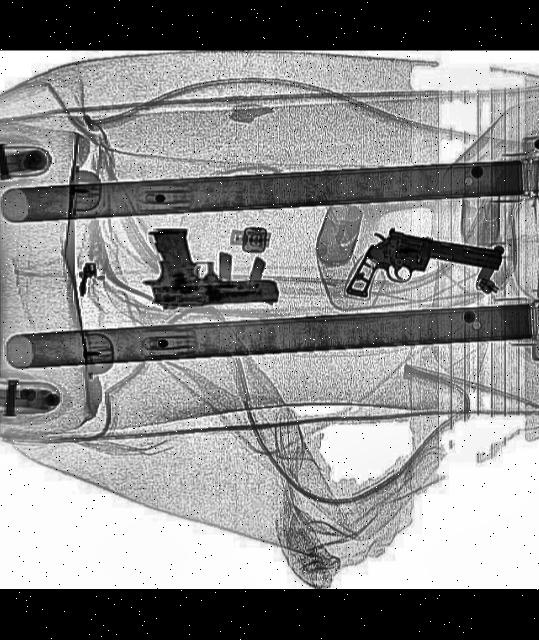Gun: (344, 223, 502, 318), (137, 224, 276, 309)
